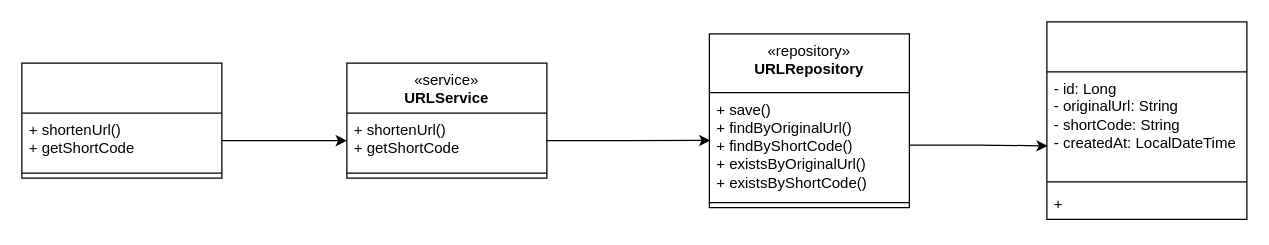
Image size: 1269x245. Some labels were removed from this diagram. The box of each missing label's shape, as (x1, y1, x2, y2) in pixels:
«controller» URLController: (21, 62, 222, 178)
«entity» URL: (1046, 21, 1247, 219)
